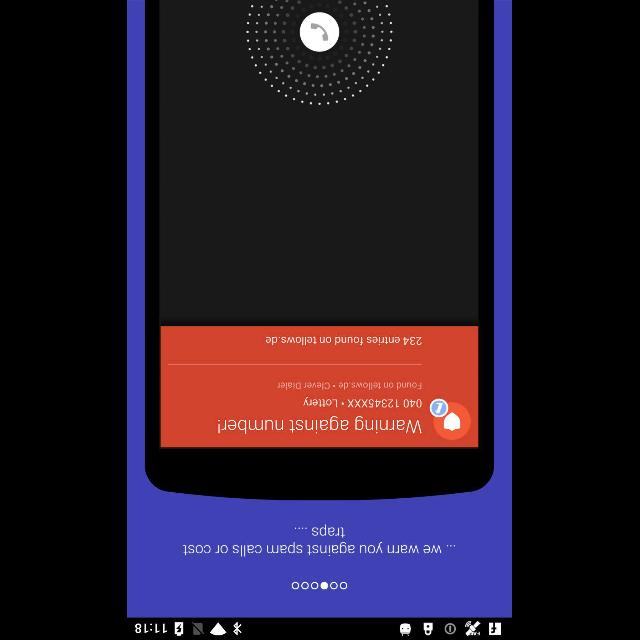image: (146, 0, 494, 500)
pageindicator: (292, 581, 348, 589)
text: (185, 524, 458, 556)
uppertaskbar: (128, 617, 512, 639)
